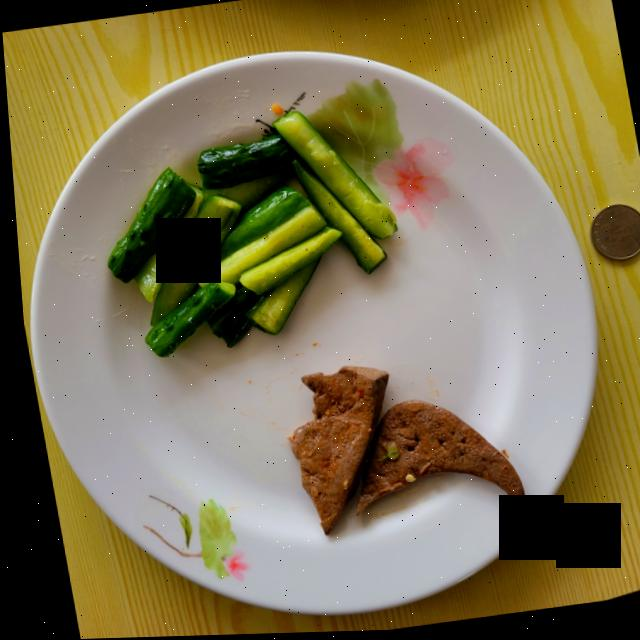coin: (585, 208, 640, 263)
cucumber: (103, 112, 392, 358)
pig liver: (283, 367, 516, 536)
